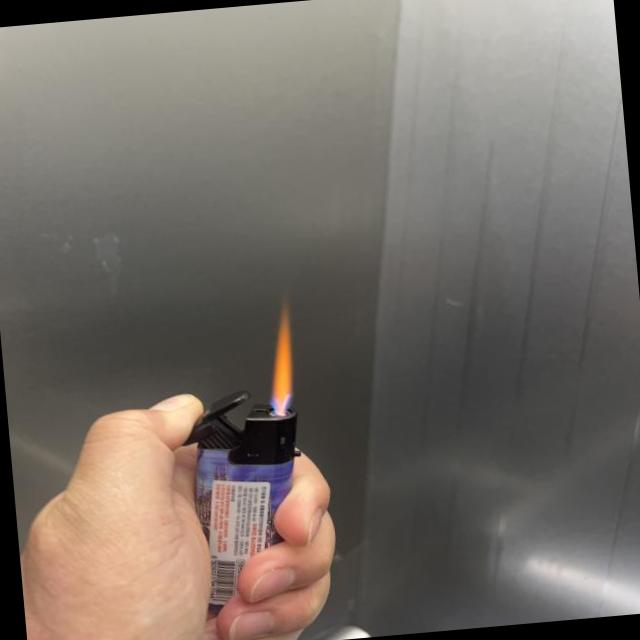Fire: (258, 300, 298, 416)
